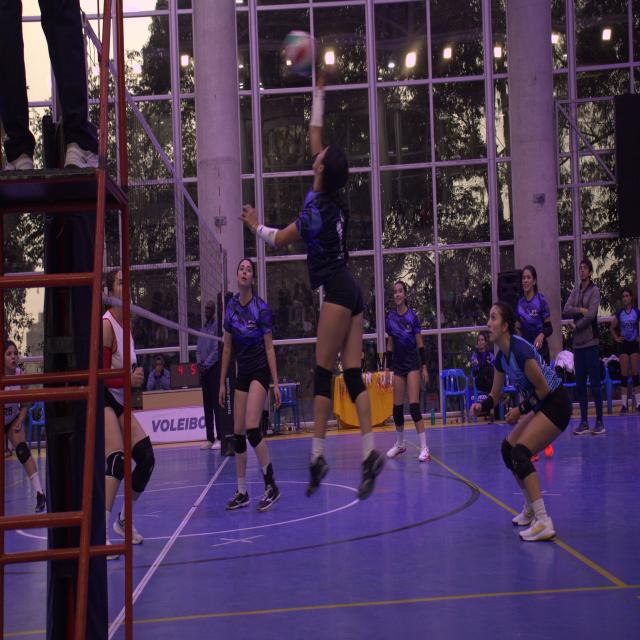volleyball: (283, 31, 316, 76)
